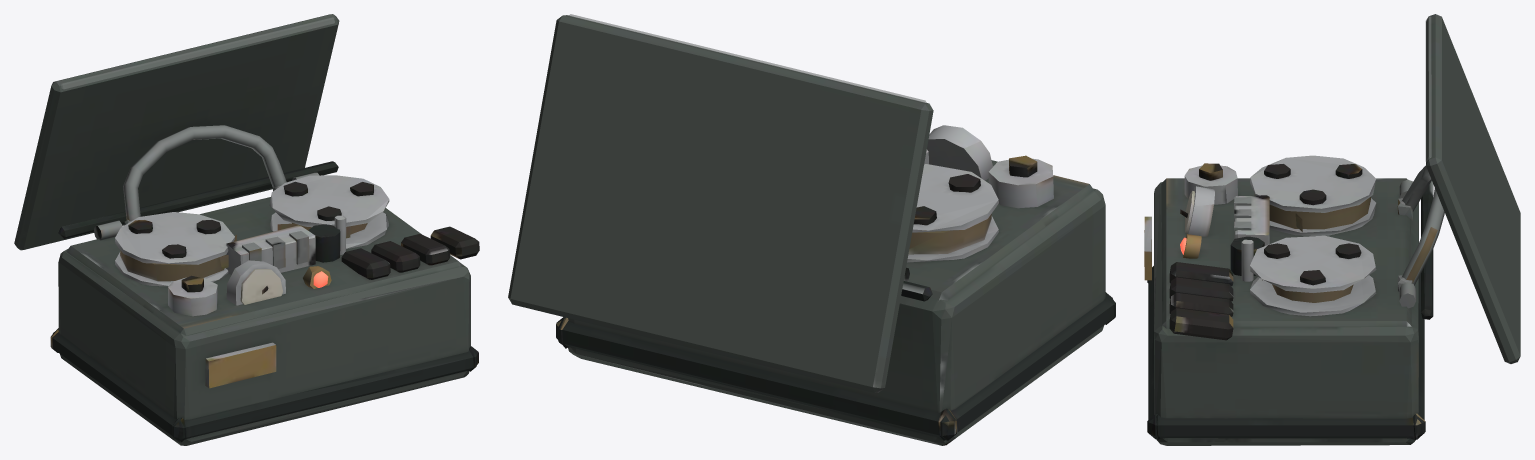
File: tape-recorder.glb
3 renders of one model, left to right at view 1: azimuth 30°, elevation 25°; view 2: azimuth 150°, elevation 25°; view 3: azimuth 270°, elevation 25°, orthographic. The views are drawn at different scales.
Parts seen in each view (by area): view 1: toy; view 2: toy; view 3: toy.
Boxes of the visible parts, box(x1,y1,x2,y2) form: toy: box(14, 14, 479, 445); toy: box(508, 14, 1115, 445); toy: box(1144, 14, 1520, 445).
Bounding box in the file's own units: 0.3186 × 0.2615 × 0.3102.
Materials: 3 (1 with a texture image).
